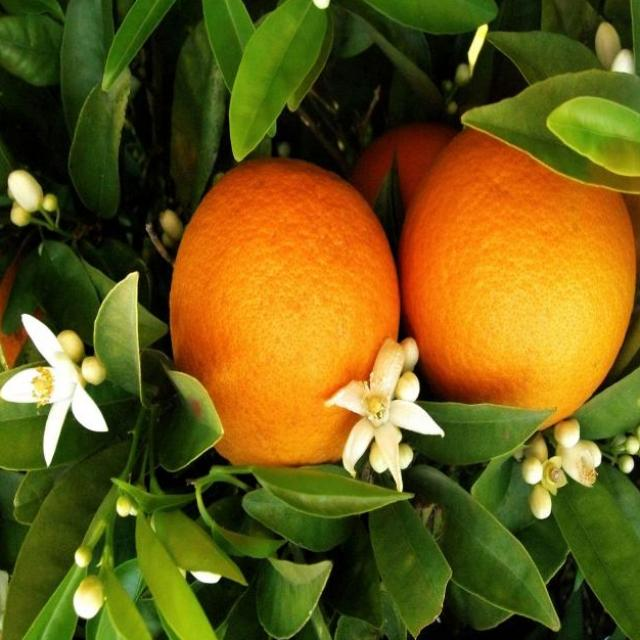orange: (165, 159, 416, 497), (400, 120, 640, 448)
